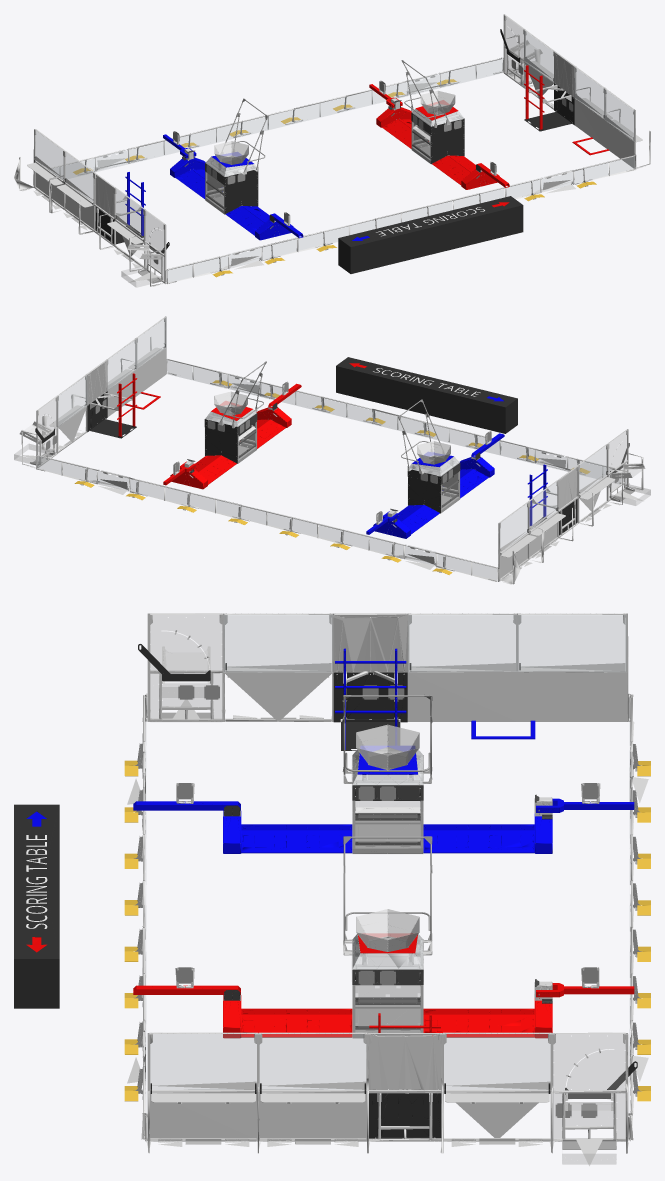
File: rebuilt.glb
3 views of the same model, one above another, from view 1: azimuth 30°, elevation 25°; view 2: azimuth 150°, elevation 25°; view 3: azimuth 270°, elevation 25° (orthographic). The views are drawn at different scales.
Visible parts, largest first — view 1: field.field_clear, field.mat_7, field.mat_0, field.mat_5, field.mat_3, field.mat_2, field.mat_10, field.mat_16, field.mat_12, field.mat_9, field.mat_21, field.field_frost (+3 smaller); view 2: field.field_clear, field.mat_7, field.mat_0, field.mat_5, field.mat_3, field.mat_2, field.mat_10, field.mat_16, field.mat_12, field.mat_21, field.mat_9, field.field_frost (+3 smaller); view 3: field.mat_7, field.field_clear, field.mat_5, field.mat_0, field.mat_2, field.mat_3, field.mat_10, field.mat_16, field.mat_12, field.mat_9, field.mat_21, field.mat_15 (+3 smaller).
Part boxes in pixels (box(x1,y1,x2,y2)): field.field_clear: box(36, 30, 634, 281); field.mat_7: box(14, 14, 650, 286); field.mat_0: box(34, 29, 633, 273); field.mat_5: box(121, 15, 573, 287); field.mat_3: box(369, 65, 609, 189); field.mat_2: box(125, 134, 303, 240); field.mat_10: box(84, 61, 588, 283); field.mat_16: box(27, 61, 642, 244); field.mat_12: box(214, 90, 455, 164); field.mat_9: box(97, 59, 573, 267); field.mat_21: box(73, 79, 596, 277); field.field_frost: box(205, 108, 464, 176); field.field_clear: box(37, 318, 626, 579); field.mat_7: box(19, 316, 645, 584); field.mat_0: box(35, 343, 629, 555); field.mat_5: box(14, 361, 650, 512); field.mat_3: box(117, 373, 301, 489); field.mat_2: box(366, 433, 547, 538); field.mat_10: box(30, 362, 634, 572); field.mat_16: box(49, 347, 615, 557); field.mat_12: box(214, 391, 450, 464); field.mat_21: box(74, 380, 590, 574); field.mat_9: box(46, 382, 618, 565); field.field_frost: box(205, 409, 459, 476); field.mat_7: box(127, 613, 648, 1166); field.field_clear: box(145, 615, 629, 1112); field.mat_5: box(149, 615, 625, 1164); field.mat_0: box(14, 644, 637, 1138); field.mat_2: box(133, 648, 634, 853); field.mat_3: box(133, 934, 634, 1038); field.mat_10: box(133, 695, 641, 1149); field.mat_16: box(151, 666, 602, 1102); field.mat_12: box(356, 724, 419, 953); field.mat_9: box(145, 685, 630, 1117); field.mat_21: box(124, 760, 650, 1101); field.mat_15: box(352, 755, 539, 1029).
Bounding box in the file's own units: 18.55 × 3.08 × 10.65.
